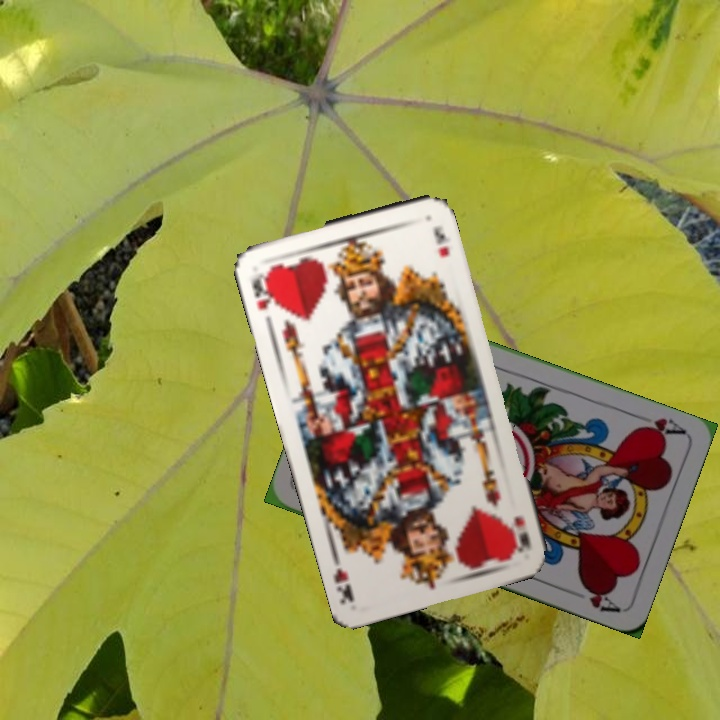HA: (630, 410, 688, 441)
HK: (247, 267, 278, 313), (508, 512, 533, 554)
